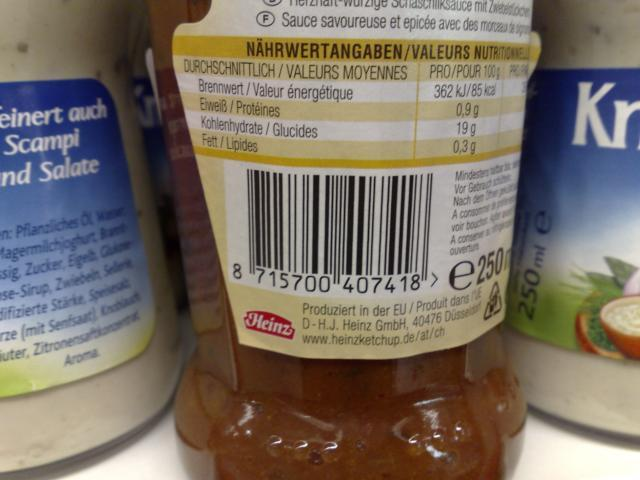Barcode: (224, 163, 445, 297)
